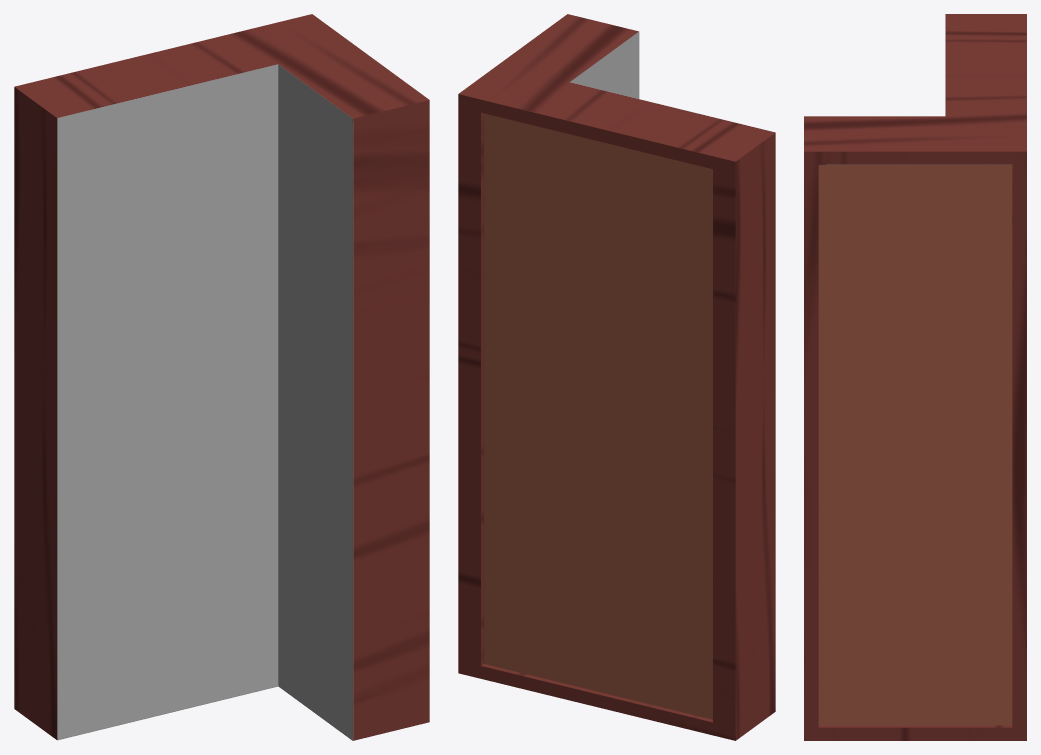
File: Lkolon.fbx
3 renders of one model, left to right at view 1: azimuth 30°, elevation 25°; view 2: azimuth 150°, elevation 25°; view 3: azimuth 270°, elevation 25°, orthographic. The views are drawn at different scales.
Visible parts, largest first — view 1: duvar4; view 2: duvar4; view 3: duvar4.
Part boxes in pixels (box(x1,y1,x2,y2)): duvar4: box(14, 14, 429, 740); duvar4: box(458, 14, 775, 740); duvar4: box(804, 14, 1026, 740).
Bounding box in the file's own units: 2133 × 4255 × 1457.
